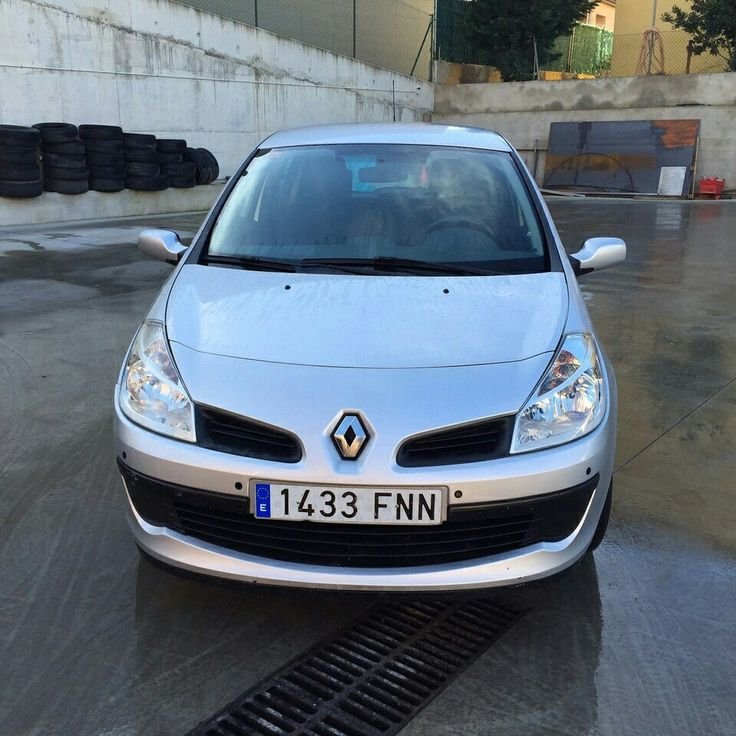plate: (252, 483, 451, 522)
